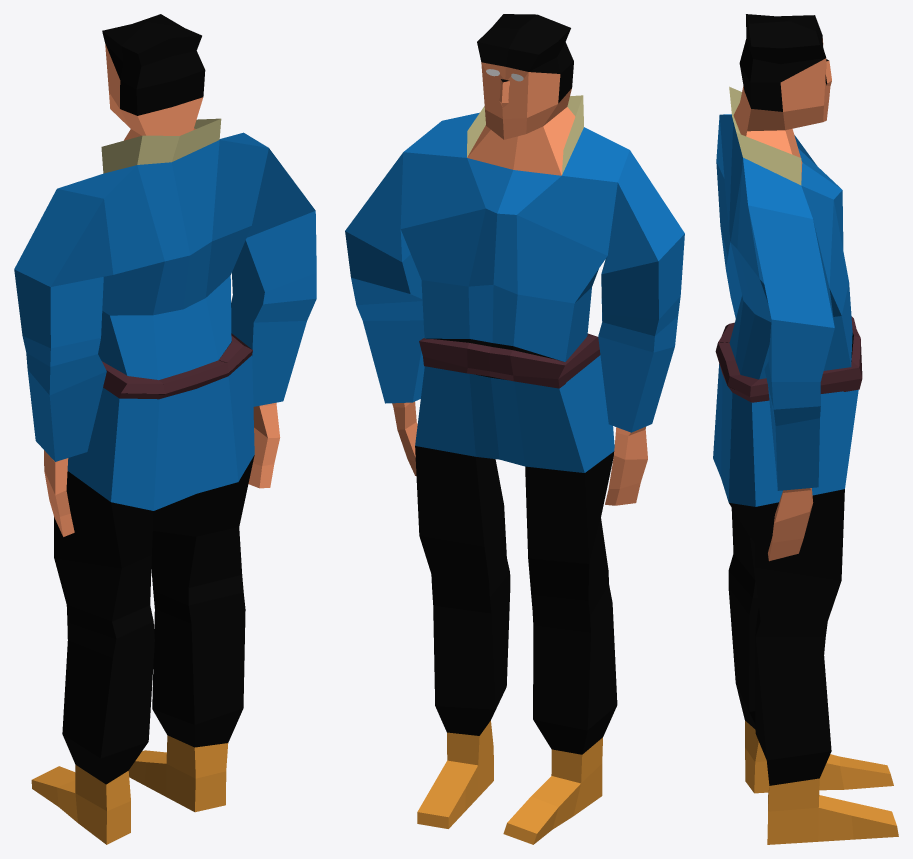
Rendered from Player.fbx.
3 views of the same model, side by side, from view 1: azimuth 30°, elevation 25°; view 2: azimuth 150°, elevation 25°; view 3: azimuth 270°, elevation 25° (orthographic). The views are drawn at different scales.
Visible parts, largest first — view 1: Player; view 2: Player; view 3: Player.
Part boxes in pixels (x1,y1,x2,y2): Player: (14,14,316,844); Player: (345,14,684,844); Player: (713,14,898,844).
Size of the model in its own units: 994 by 394 by 212.
